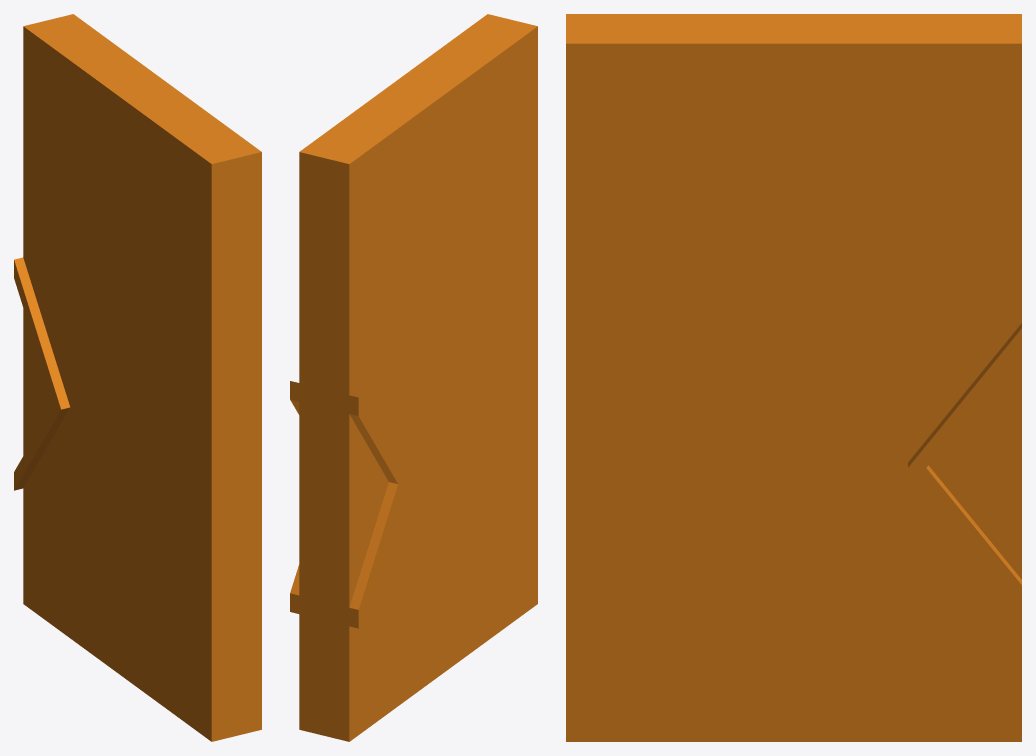
File: Door_Right.fbx
3 renders of one model, left to right at view 1: azimuth 30°, elevation 25°; view 2: azimuth 150°, elevation 25°; view 3: azimuth 270°, elevation 25°, orthographic. The views are drawn at different scales.
Parts seen in each view (by area): view 1: Door Right; view 2: Door Right; view 3: Door Right.
Boxes of the visible parts, box(x1,y1,x2,y2) form: Door Right: box(14, 14, 261, 741); Door Right: box(290, 14, 537, 741); Door Right: box(566, 14, 1021, 741).
Size of the model in its own units: 0.8202 by 3.9 by 6.6.
